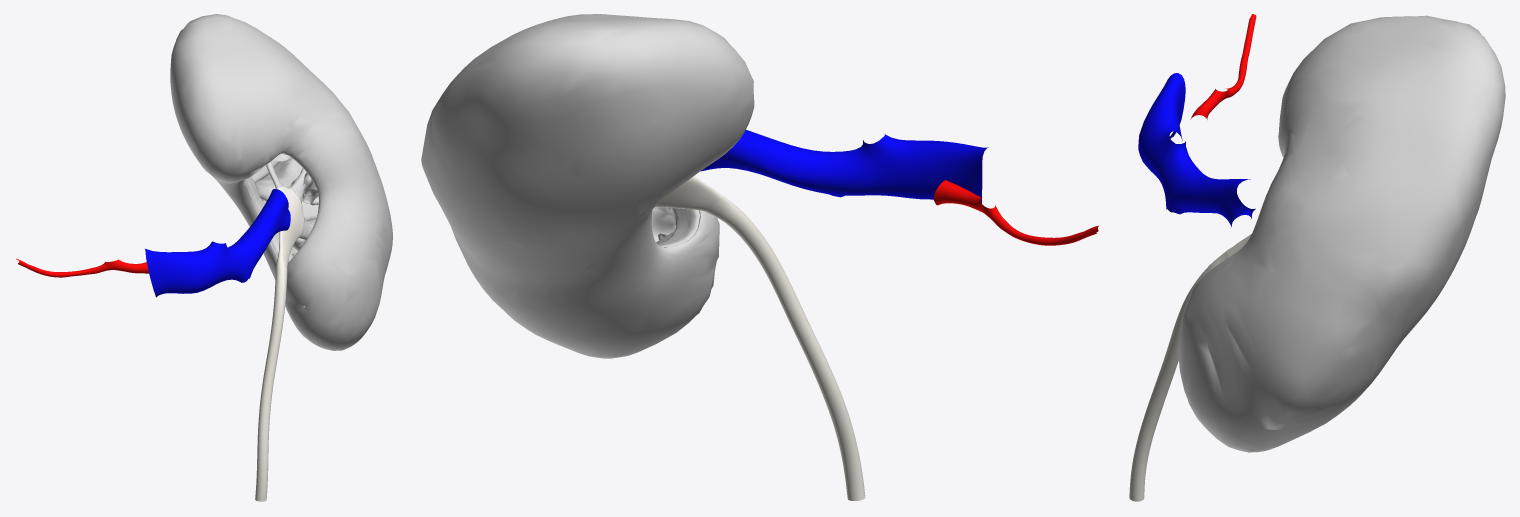
The model's file is kidney.glb.
3 renders of one model, left to right at view 1: azimuth 30°, elevation 25°; view 2: azimuth 150°, elevation 25°; view 3: azimuth 270°, elevation 25°, orthographic. The views are drawn at different scales.
Parts seen in each view (by area): view 1: k_capsule, k_renal_vein, k_ureter, k_cortex, k_pyramids, k_pelvis, k_renal_artery, k_calyces, k_columns; view 2: k_capsule, k_renal_vein, k_ureter, k_renal_artery, k_pelvis, k_cortex; view 3: k_capsule, k_renal_vein, k_ureter, k_renal_artery.
Boxes of the visible parts, bbox=[...] form: k_capsule: bbox=[170, 14, 392, 350]; k_renal_vein: bbox=[145, 189, 290, 297]; k_ureter: bbox=[255, 252, 288, 501]; k_cortex: bbox=[184, 37, 364, 306]; k_pyramids: bbox=[255, 158, 318, 256]; k_pelvis: bbox=[276, 186, 303, 258]; k_renal_artery: bbox=[16, 258, 148, 277]; k_calyces: bbox=[266, 161, 313, 239]; k_columns: bbox=[256, 154, 318, 203]; k_capsule: bbox=[421, 14, 754, 358]; k_renal_vein: bbox=[701, 130, 988, 202]; k_ureter: bbox=[706, 196, 865, 500]; k_renal_artery: bbox=[933, 180, 1098, 245]; k_pelvis: bbox=[655, 176, 723, 211]; k_cortex: bbox=[626, 42, 736, 246]; k_capsule: bbox=[1178, 15, 1505, 452]; k_renal_vein: bbox=[1138, 73, 1255, 226]; k_ureter: bbox=[1129, 250, 1227, 501]; k_renal_artery: bbox=[1190, 14, 1256, 119].
Bounding box in the file's own units: 0.1556 × 0.143 × 0.095.
